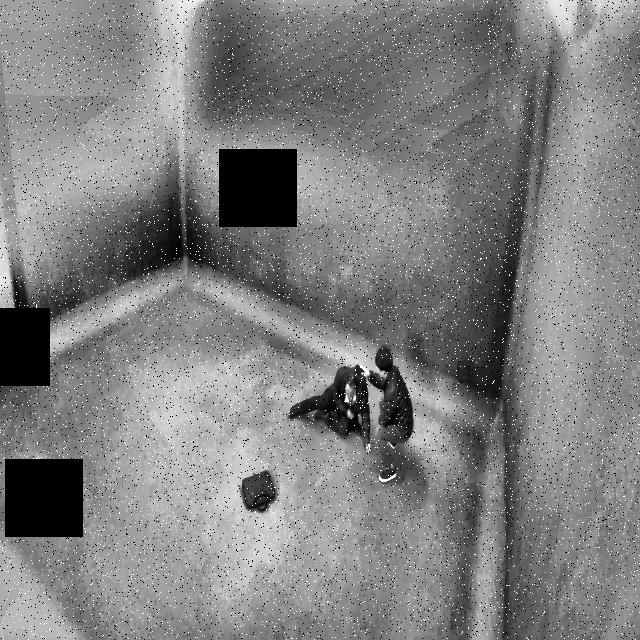assult: (283, 339, 422, 488)
